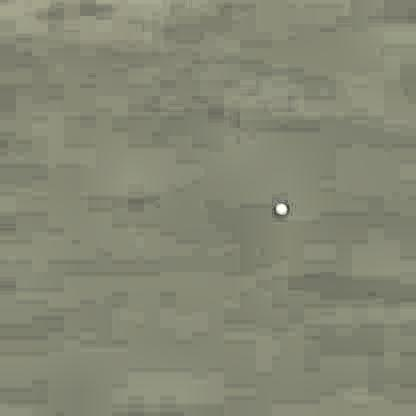golfball: (272, 201, 288, 214)
